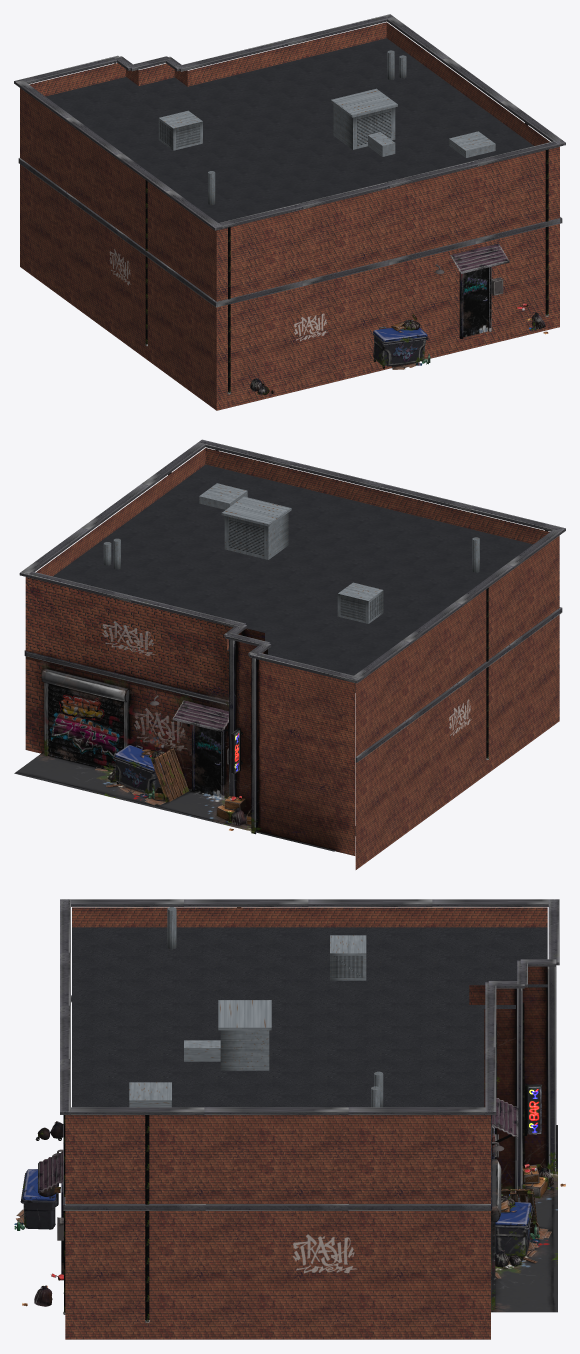
Rendered from Bar.glb.
3 views of the same model, one above another, from view 1: azimuth 30°, elevation 25°; view 2: azimuth 150°, elevation 25°; view 3: azimuth 270°, elevation 25° (orthographic). The views are drawn at different scales.
Visible parts, largest first — view 1: Bar; view 2: Bar; view 3: Bar.
Boxes of the visible parts, x1,y1,x2,y2 form: Bar: (14, 14, 565, 410); Bar: (14, 439, 565, 869); Bar: (14, 899, 565, 1339).
Size of the model in its own units: 11.39 by 6.27 by 12.49.
Materials: 7 (7 with a texture image).
